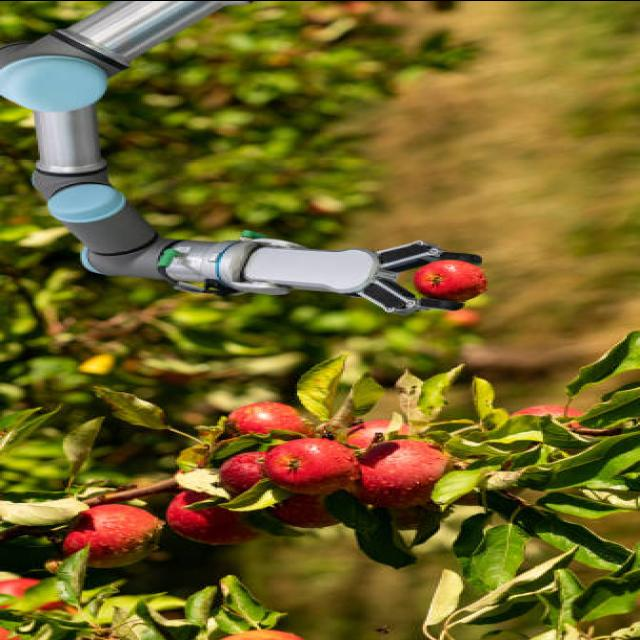Robotic-arm: (0, 2, 490, 310)
